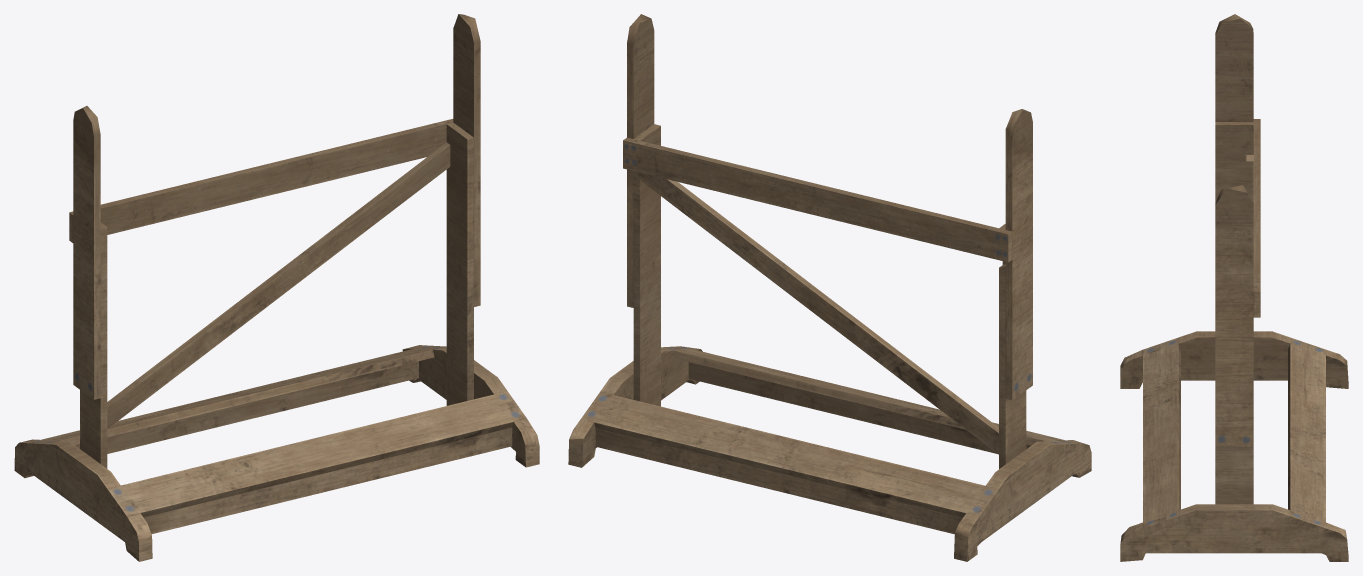
The model's file is SM_Drawing_Table_Drawing_Table.glb.
3 views of the same model, side by side, from view 1: azimuth 30°, elevation 25°; view 2: azimuth 150°, elevation 25°; view 3: azimuth 270°, elevation 25° (orthographic). The views are drawn at different scales.
Visible parts, largest first — view 1: SM_Drawing_Table_Drawing_Table; view 2: SM_Drawing_Table_Drawing_Table; view 3: SM_Drawing_Table_Drawing_Table.
Boxes of the visible parts, bbox=[...] form: SM_Drawing_Table_Drawing_Table: bbox=[14, 14, 539, 561]; SM_Drawing_Table_Drawing_Table: bbox=[568, 14, 1091, 561]; SM_Drawing_Table_Drawing_Table: bbox=[1120, 14, 1348, 561].
Bounding box in the file's own units: 1.25 × 1.21 × 0.6724.
Materials: 1 (1 with a texture image).
